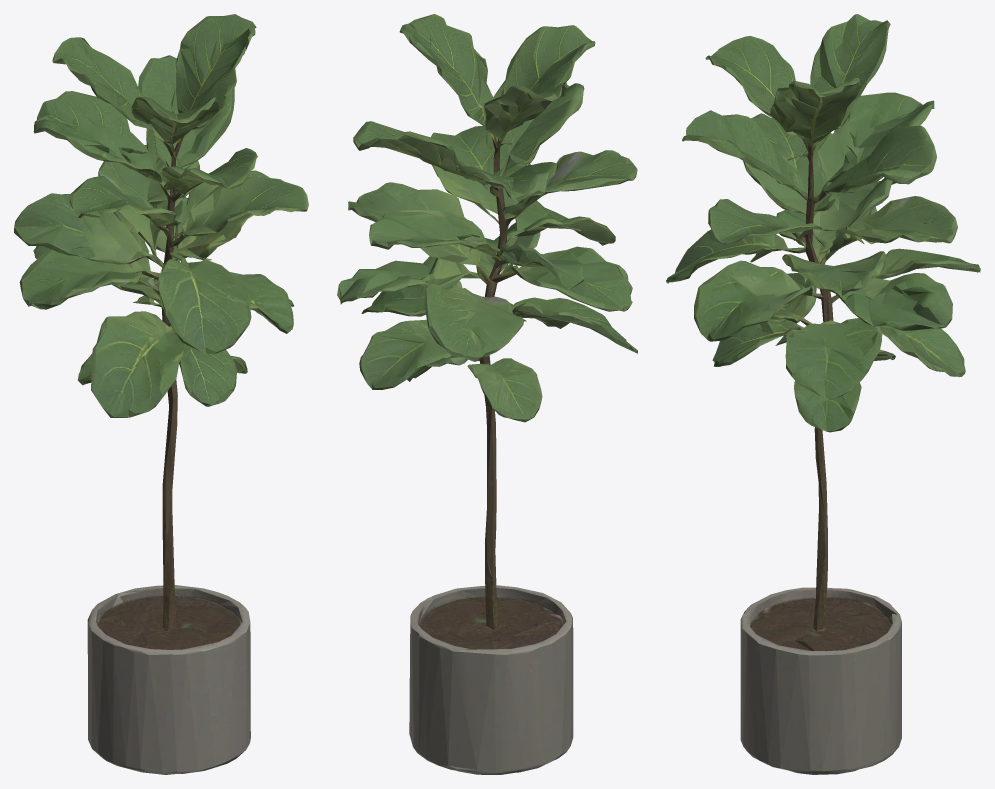
Rendered from ficus_plant_pot.glb.
3 views of the same model, side by side, from view 1: azimuth 30°, elevation 25°; view 2: azimuth 150°, elevation 25°; view 3: azimuth 270°, elevation 25° (orthographic).
Parts seen in each view (by area): view 1: Mesh_0; view 2: Mesh_0; view 3: Mesh_0.
Part boxes in pixels (box(x1,y1,x2,y2)): Mesh_0: box(14, 14, 308, 774); Mesh_0: box(337, 14, 637, 774); Mesh_0: box(666, 14, 980, 774).
Size of the model in its own units: 0.7152 by 1.8 by 0.7319.
1 material, 1 textured.
